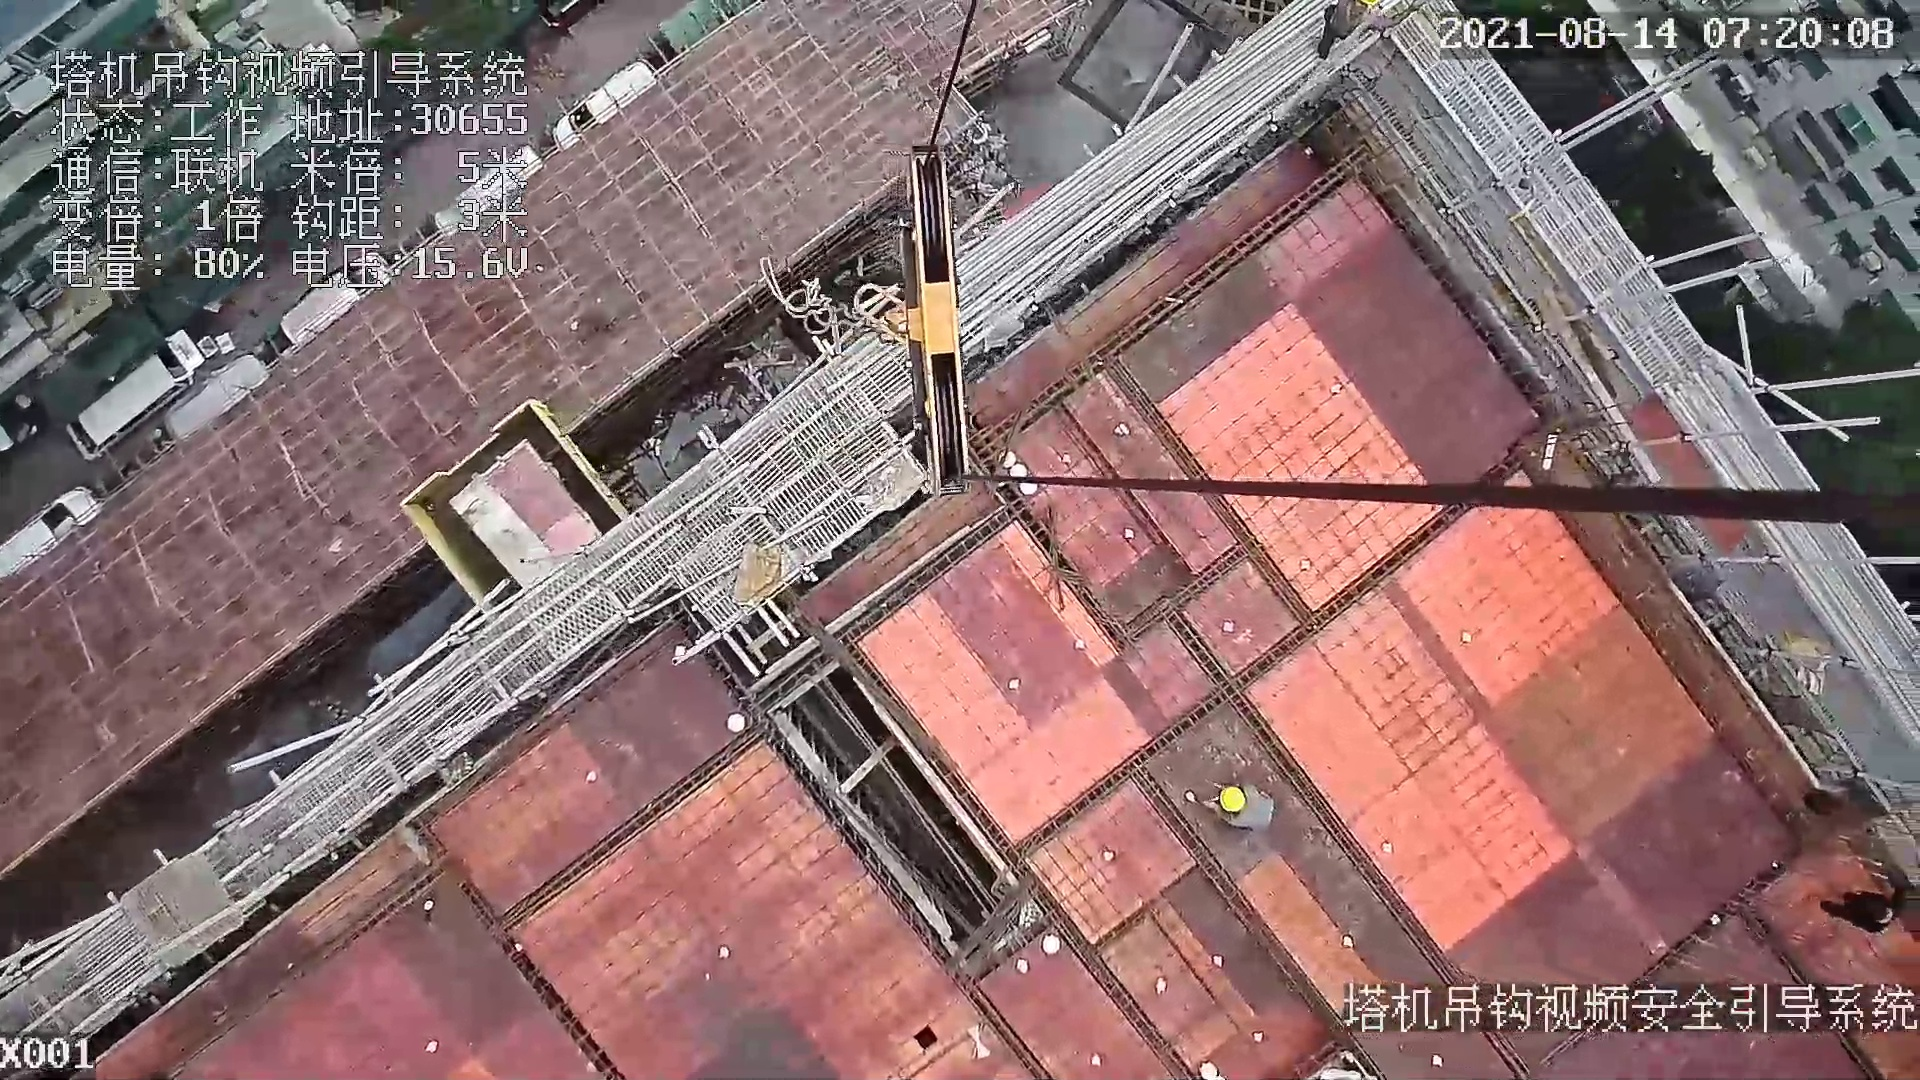helmet: (1216, 783, 1253, 815)
hook: (858, 145, 983, 506)
person: (1814, 871, 1905, 928), (1192, 780, 1279, 836)
